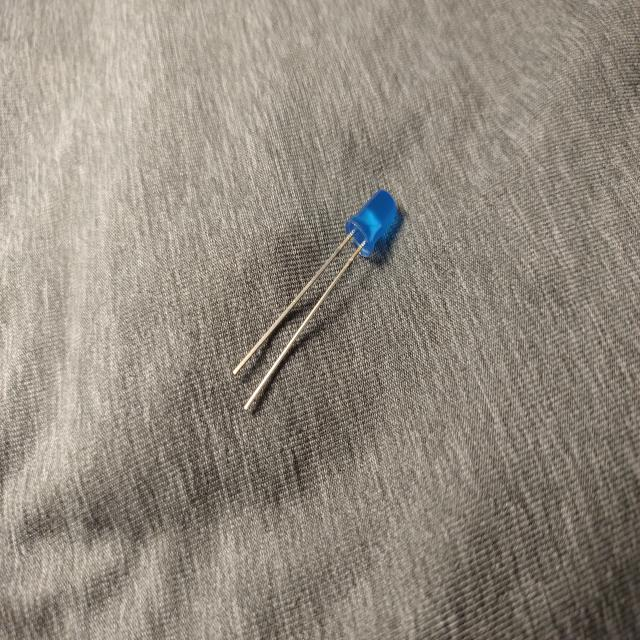blue_led: (231, 187, 399, 413)
